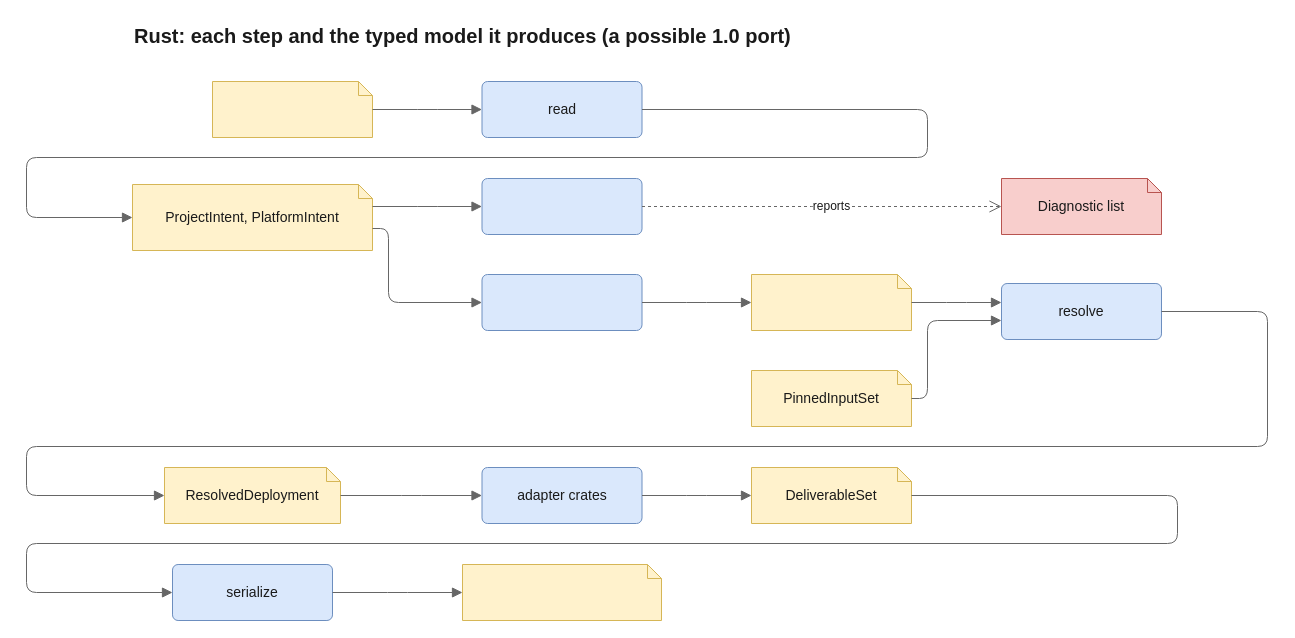
Some shapes in this 1295 by 638 pixel diagram are drawn without their labels. The shapes that lost their labels are listed below. From the top down, each one's box as (x1, y1, x2, y2) in pixels, then its label:
(212, 80, 372, 138): YAML, env files
(481, 178, 642, 234): check
(481, 274, 642, 330): lower
(750, 274, 912, 330): EffectiveIntent
(462, 564, 662, 620): renders/, result.json
